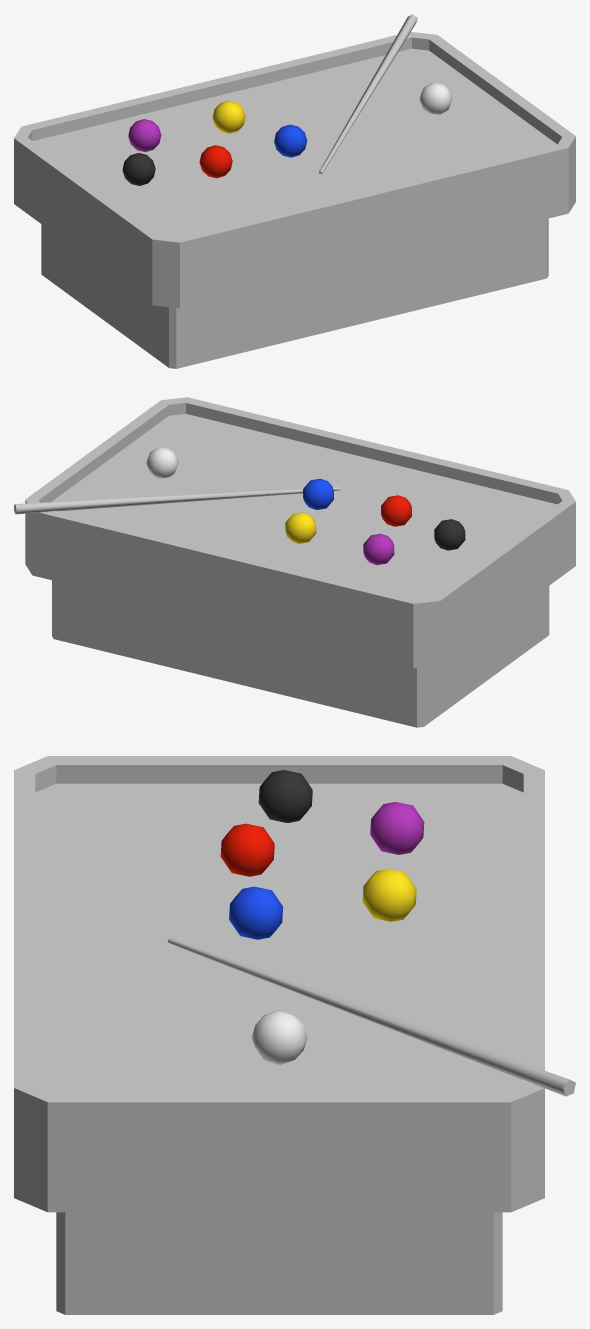
Rendered from PoolTable.fbx.
The picture shows the model from 3 angles, top to bottom: view 1: azimuth 30°, elevation 25°; view 2: azimuth 150°, elevation 25°; view 3: azimuth 270°, elevation 25°; orthographic projection. The views are drawn at different scales.
Visible parts, largest first — view 1: PoolTable, Stick snooker, Red ball, blue ball, purple ball, Black ball, yellowball, White ball; view 2: PoolTable, Stick snooker, yellowball, Black ball, purple ball, White ball, Red ball, blue ball; view 3: PoolTable, Stick snooker, White ball, blue ball, yellowball, Red ball, purple ball, Black ball.
Part boxes in pixels (left/top/right/bottom): PoolTable: left=14, top=32, right=575, bottom=368; Stick snooker: left=319, top=14, right=417, bottom=174; Red ball: left=199, top=145, right=232, bottom=178; blue ball: left=274, top=124, right=307, bottom=157; purple ball: left=128, top=119, right=161, bottom=152; Black ball: left=122, top=153, right=155, bottom=185; yellowball: left=212, top=100, right=245, bottom=133; White ball: left=419, top=82, right=452, bottom=114; PoolTable: left=25, top=397, right=575, bottom=727; Stick snooker: left=14, top=487, right=339, bottom=514; yellowball: left=285, top=512, right=316, bottom=543; Black ball: left=434, top=519, right=465, bottom=550; purple ball: left=363, top=533, right=394, bottom=564; White ball: left=146, top=447, right=178, bottom=478; Red ball: left=381, top=495, right=411, bottom=526; blue ball: left=303, top=478, right=333, bottom=509; PoolTable: left=14, top=756, right=544, bottom=1314; Stick snooker: left=167, top=937, right=575, bottom=1096; White ball: left=251, top=1010, right=307, bottom=1065; blue ball: left=229, top=886, right=282, bottom=939; yellowball: left=362, top=869, right=416, bottom=921; Red ball: left=220, top=823, right=274, bottom=876; purple ball: left=370, top=802, right=424, bottom=854; Black ball: left=258, top=770, right=312, bottom=822.
Bounding box in the file's own units: 469 × 166 × 322.
